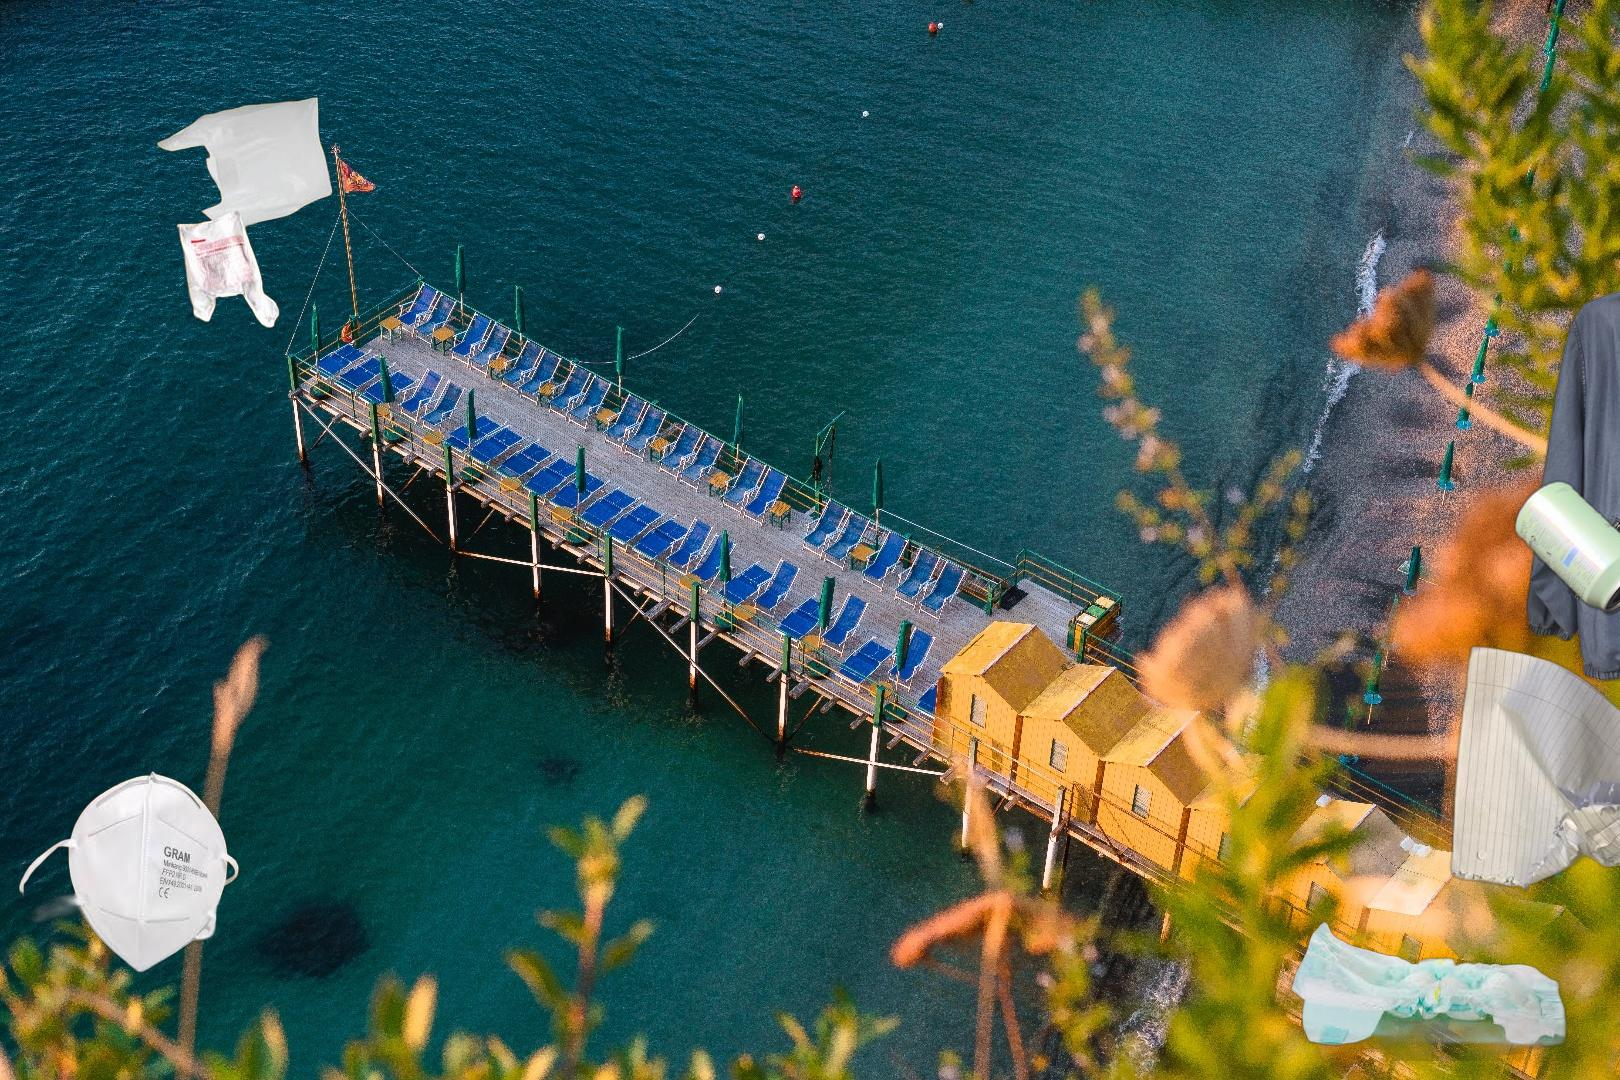clothes: (1524, 240, 1620, 768)
metal-cans: (1395, 284, 1620, 968)
paper: (1446, 642, 1620, 894)
plastic-bag: (153, 94, 335, 330)
trash: (16, 768, 241, 986), (1289, 918, 1581, 1061)
